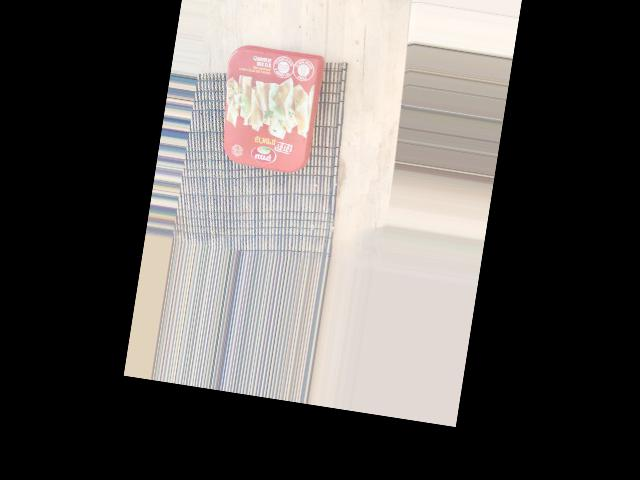cheese: (168, 121, 316, 226)
